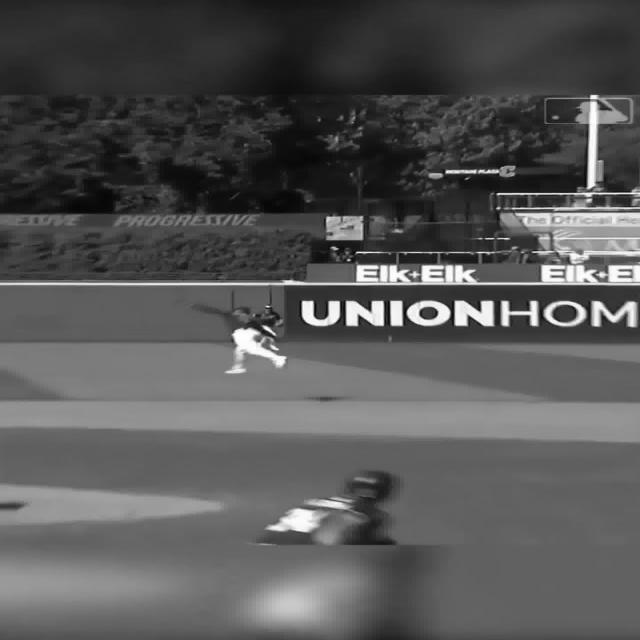baseball_glove: (173, 297, 192, 307)
shoe: (272, 356, 287, 368), (224, 368, 246, 374)
